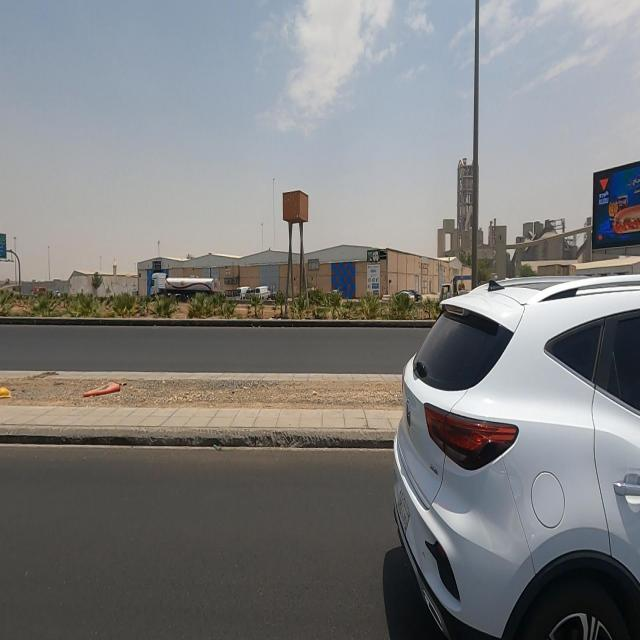debris: (58, 330, 150, 450), (0, 354, 48, 430)
